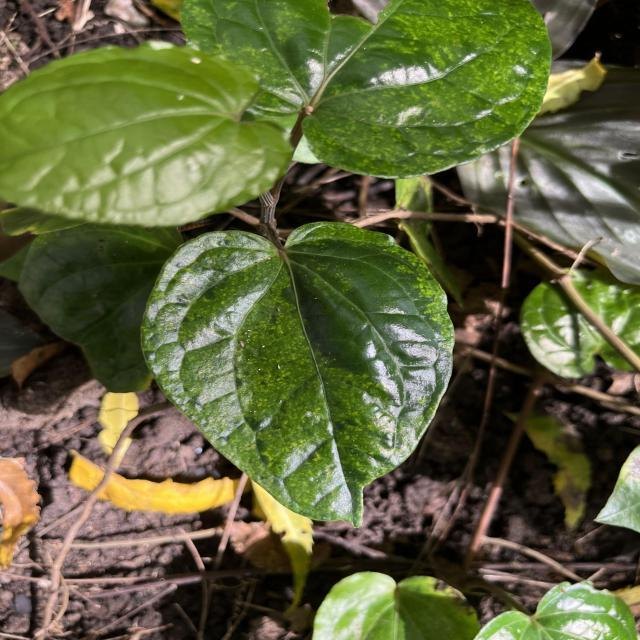Piper betle: (134, 218, 460, 532)
